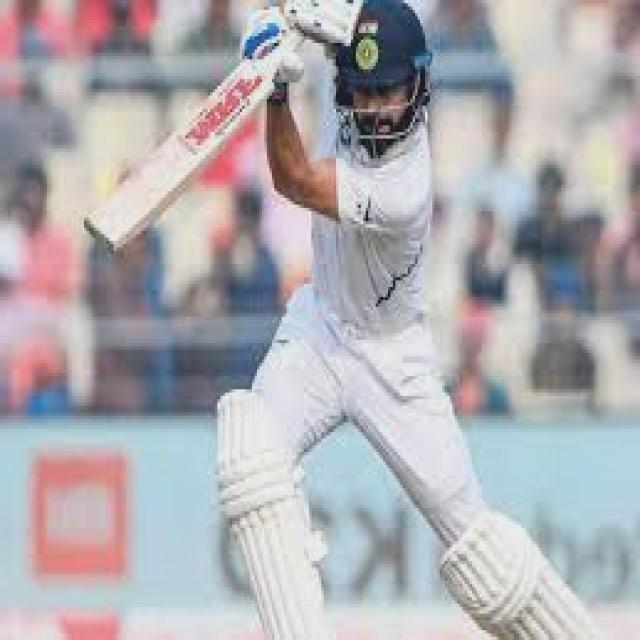toe: (83, 192, 147, 258)
